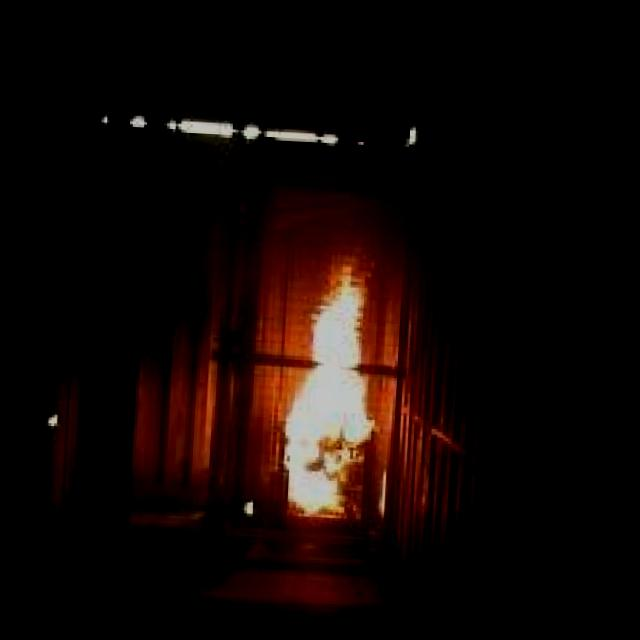fire: (270, 258, 408, 536)
